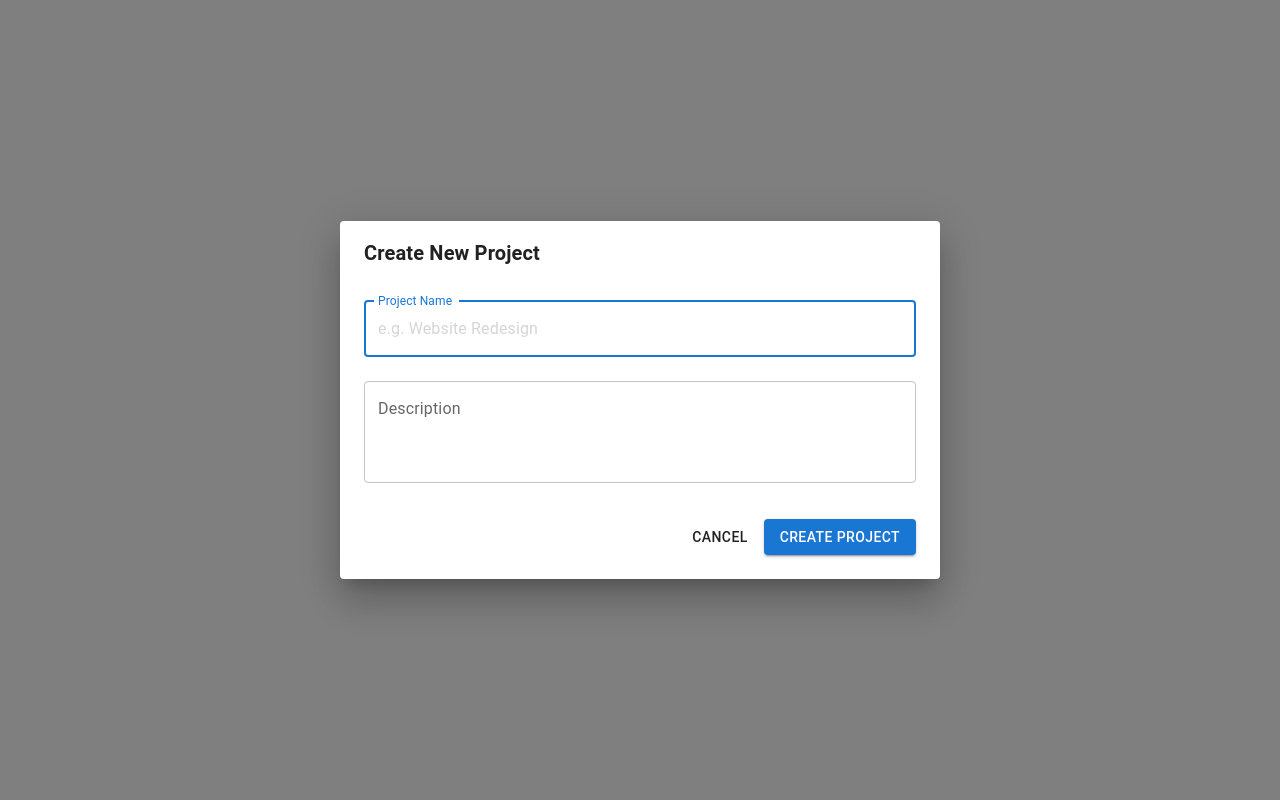
Scenario: CreateProjectDialog › shows error on creation failure
Type "Test" into the field labelled "Project Name" at coordinates (640, 329), box [364,301,916,357]
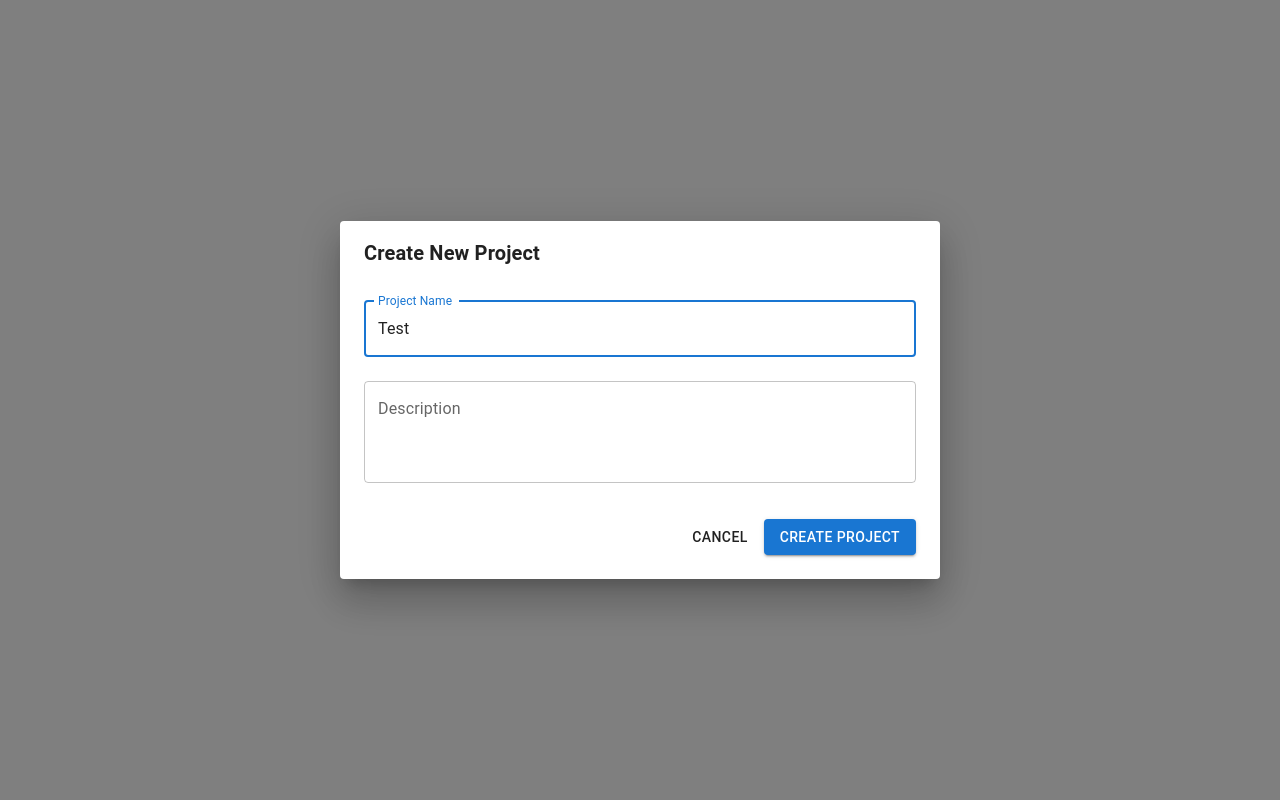
Click the button "Create Project" at coordinates (840, 537), box [764,519,916,555]
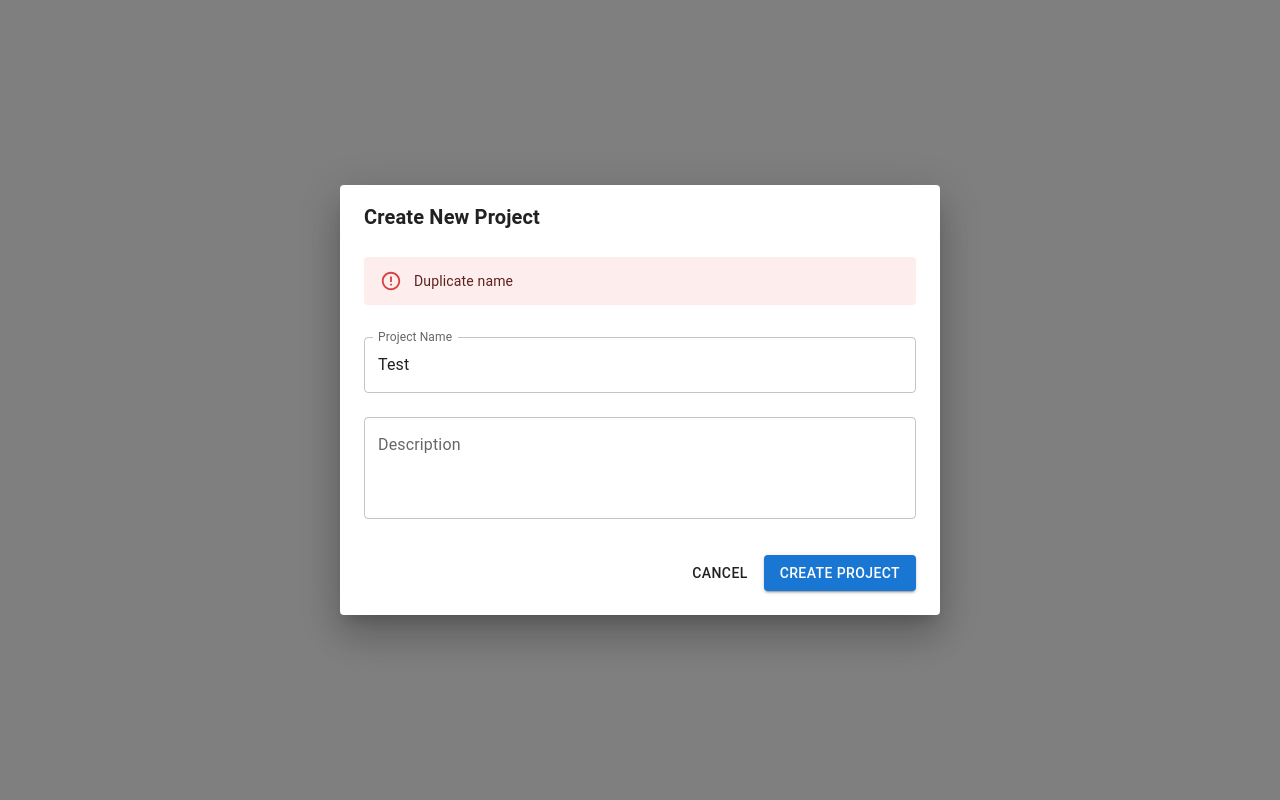
expect the text "Duplicate name" is shown: met, box [414,273,513,289]
